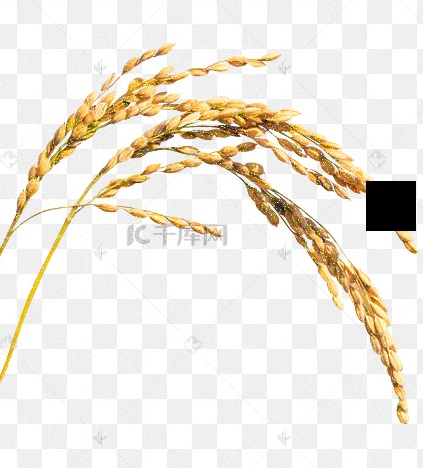rice: (63, 129, 407, 426), (2, 46, 418, 238)
